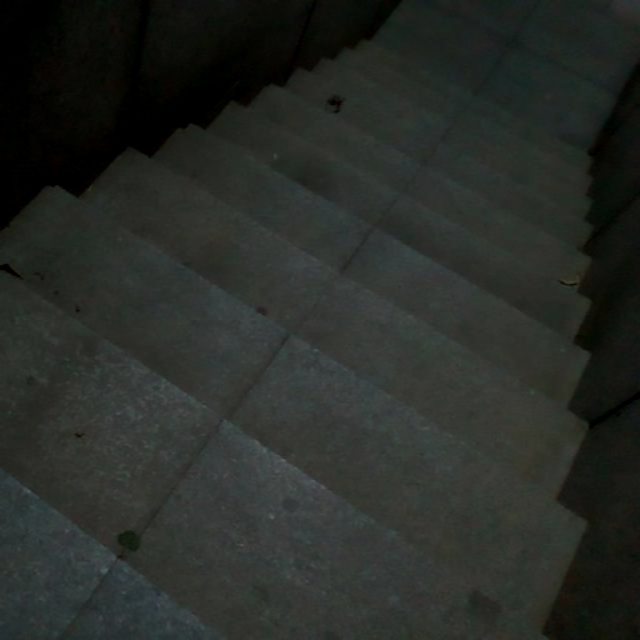stair: (10, 58, 601, 588)
